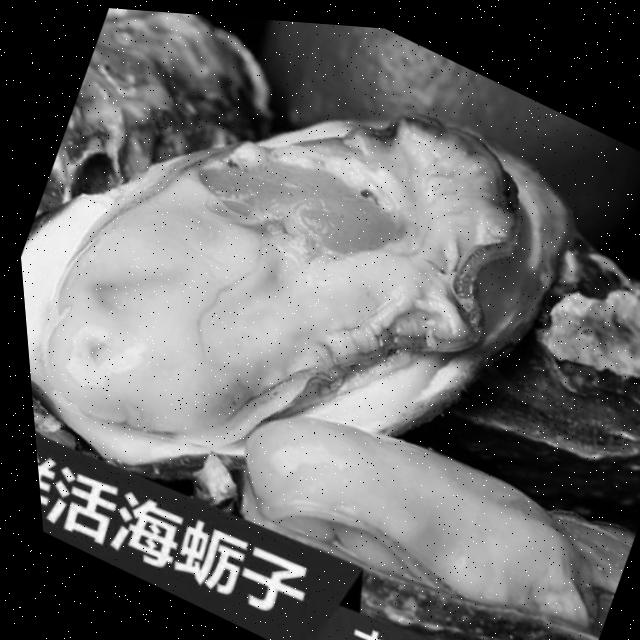Oyster-Indeterminate: (32, 8, 268, 224)
Oyster-Open: (21, 107, 567, 513), (237, 415, 631, 640)
